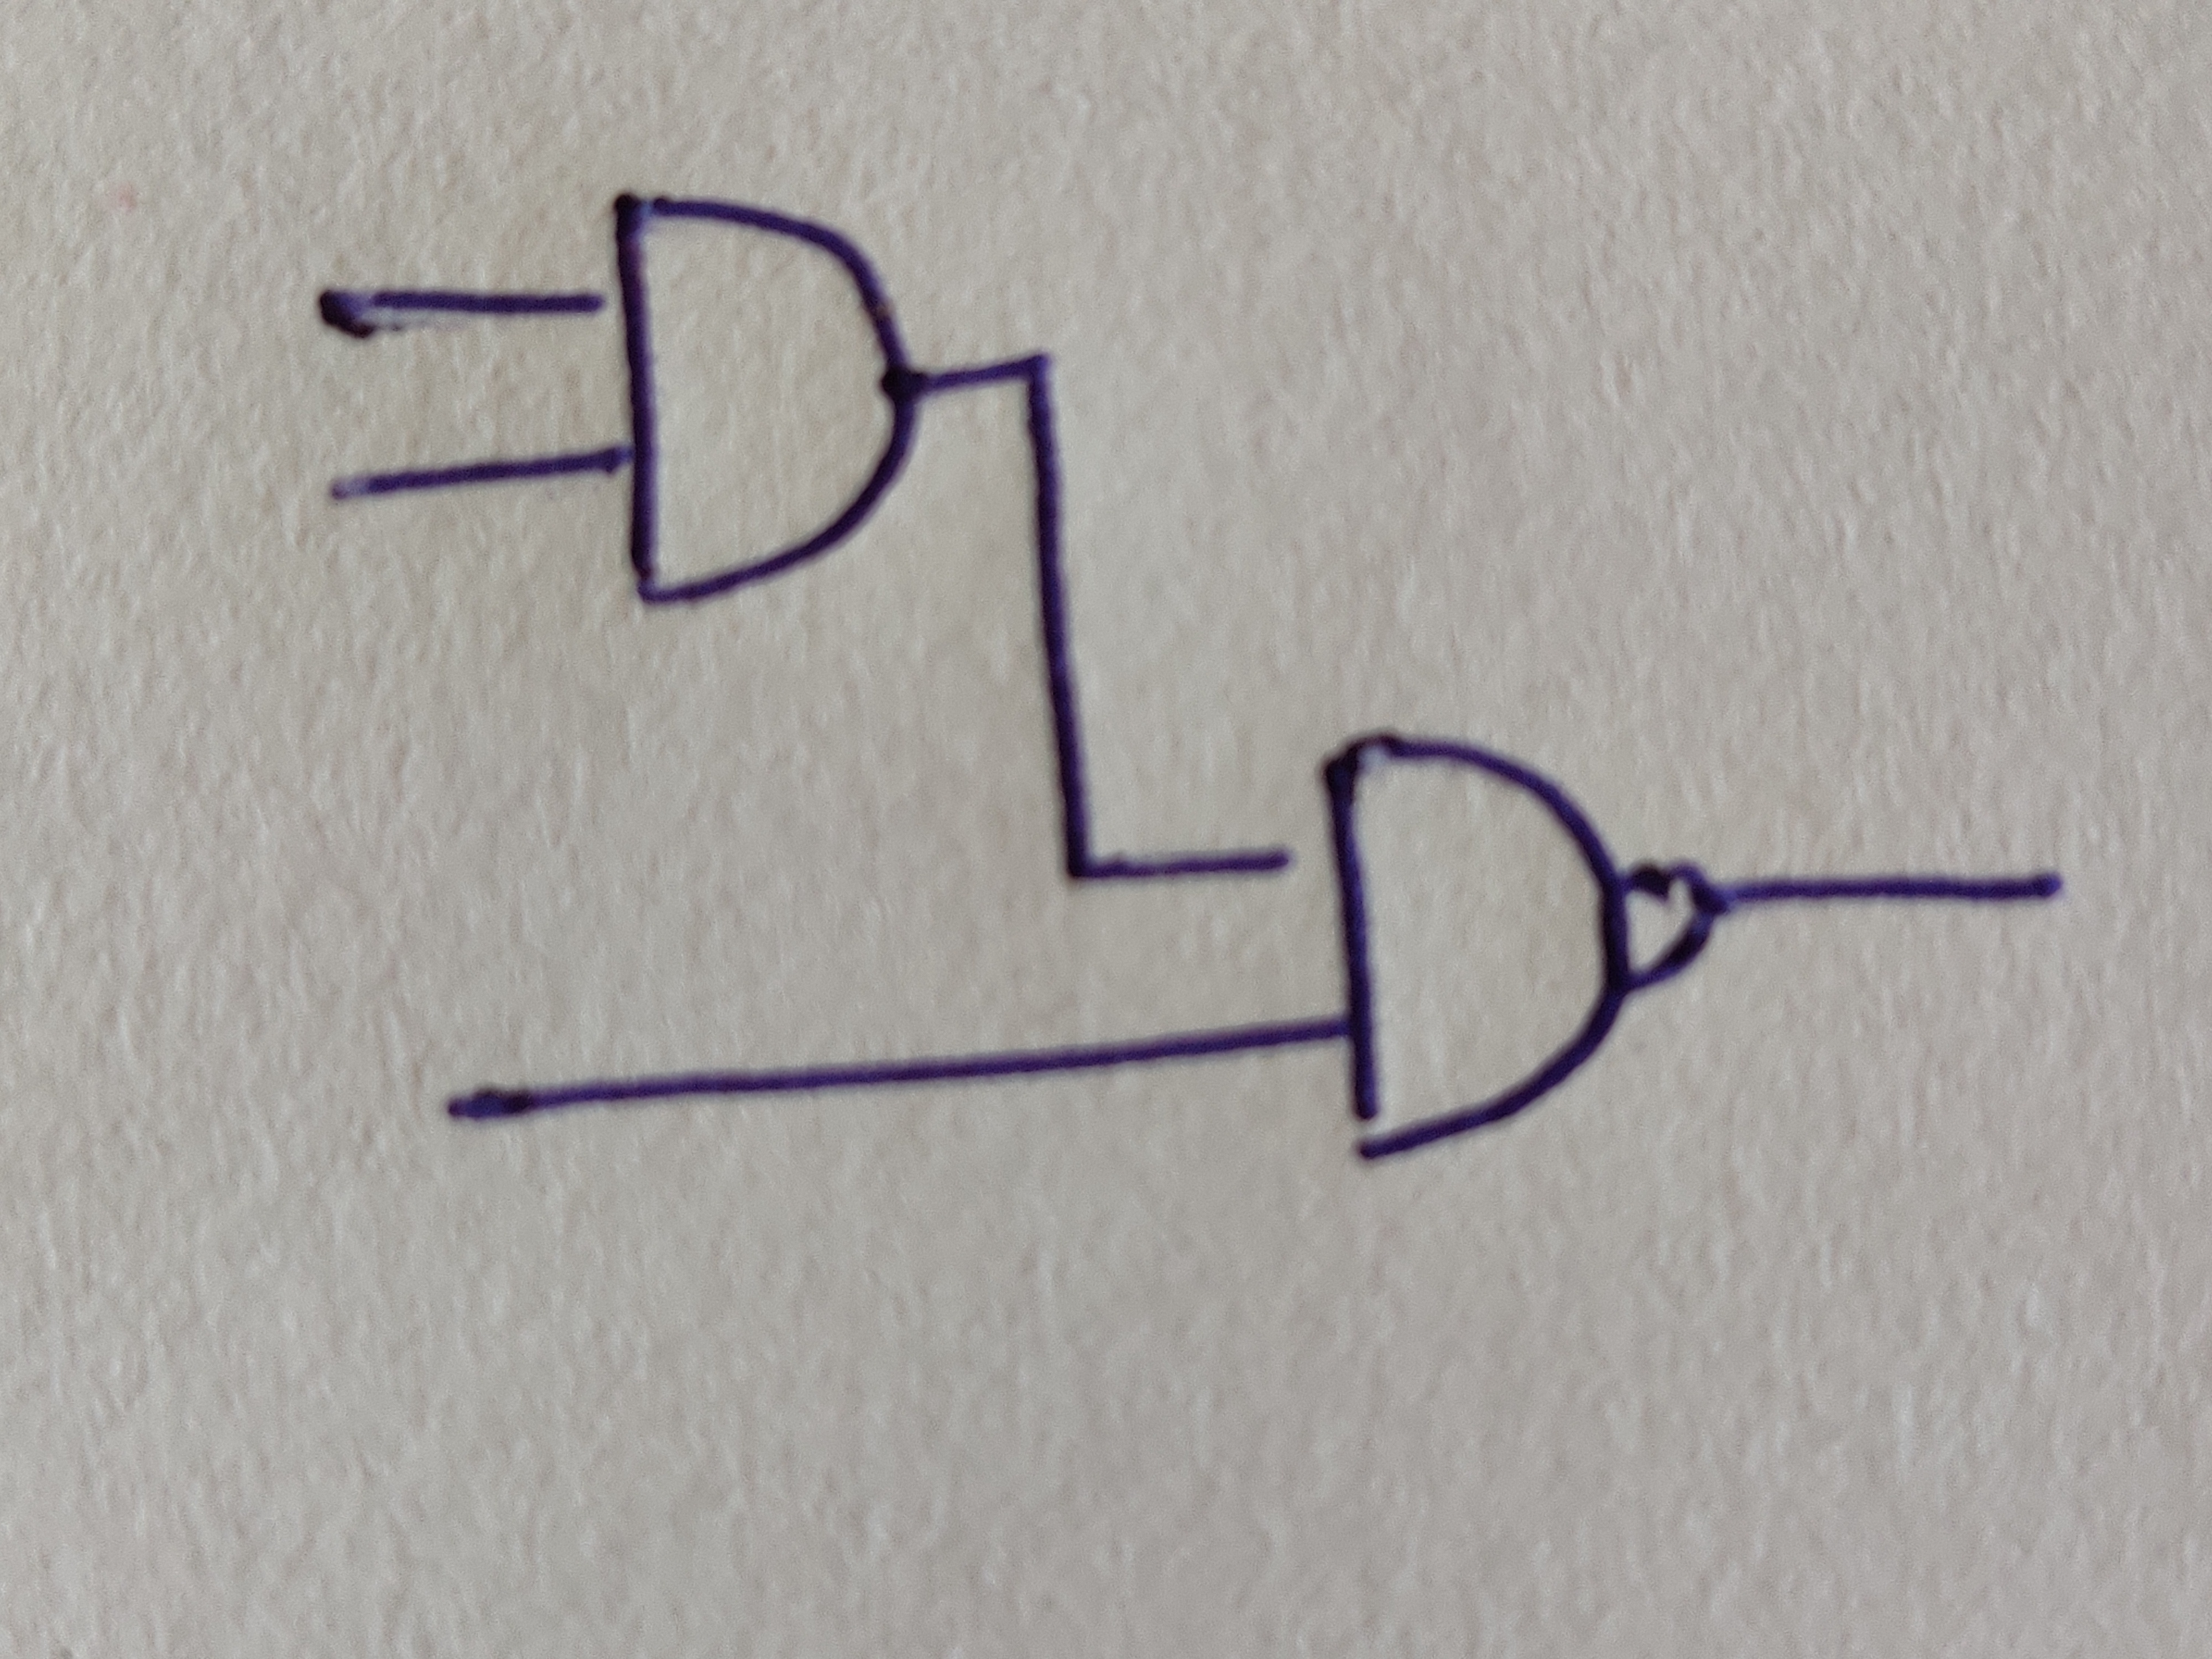and: (1322, 735, 1629, 1157), (611, 190, 920, 605)
not: (1613, 861, 1714, 992)
